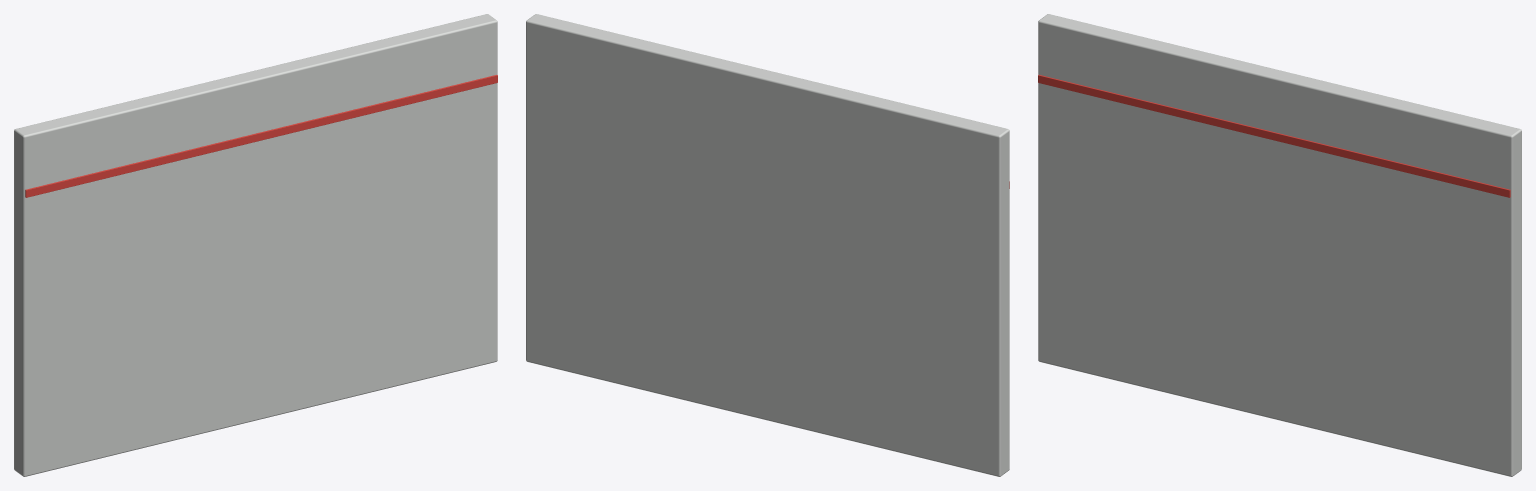
Rendered from squash-club-and-racket-workshop-court-service-line-pan-76941a93__29739.glb.
The picture shows the model from 3 angles, left to right: view 1: azimuth 30°, elevation 25°; view 2: azimuth 150°, elevation 25°; view 3: azimuth 330°, elevation 25°; orthographic projection.
Visible parts, largest first — view 1: court-service-line-panel; view 2: court-service-line-panel; view 3: court-service-line-panel.
Part boxes in pixels (x1=…): court-service-line-panel: x1=14, y1=14, x2=497, y2=476; court-service-line-panel: x1=526, y1=14, x2=1009, y2=476; court-service-line-panel: x1=1038, y1=14, x2=1521, y2=476.
Bounding box in the file's own units: 3.2 × 2.2 × 0.132.
